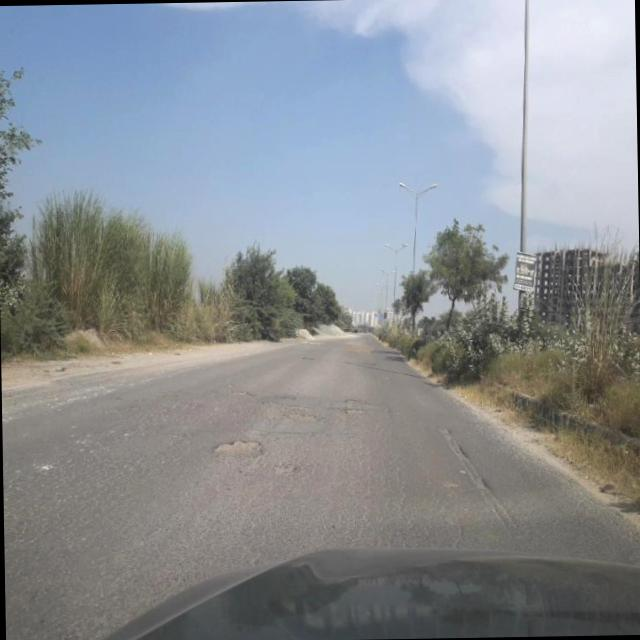crack: (4, 358, 472, 564), (429, 416, 518, 536)
pothole: (204, 433, 266, 459), (327, 389, 388, 415), (266, 404, 327, 430), (266, 456, 304, 476), (220, 383, 258, 402)
